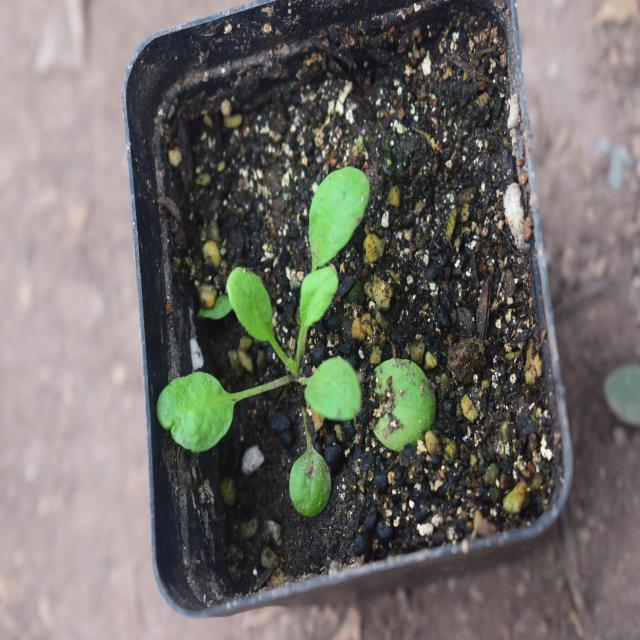Shepherd_Purse: (168, 169, 433, 493)
